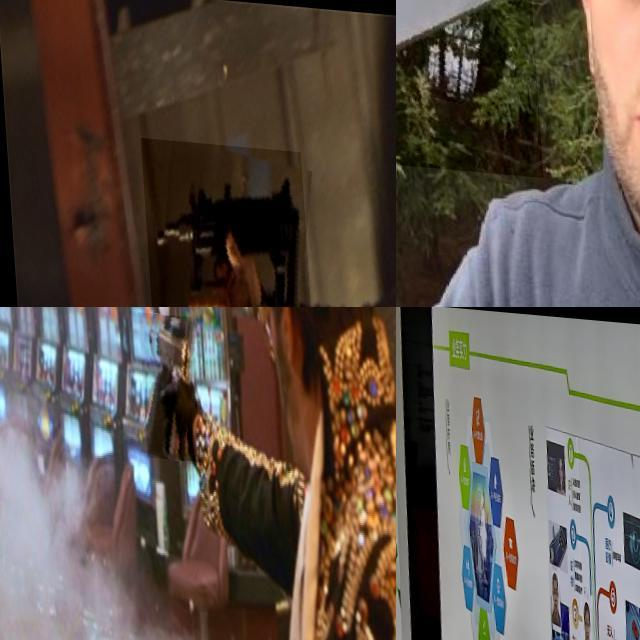-: (396, 0, 537, 171)
gun-knife-thesis - v11 Yolov5 augmented: (138, 135, 313, 307), (135, 307, 196, 454)
